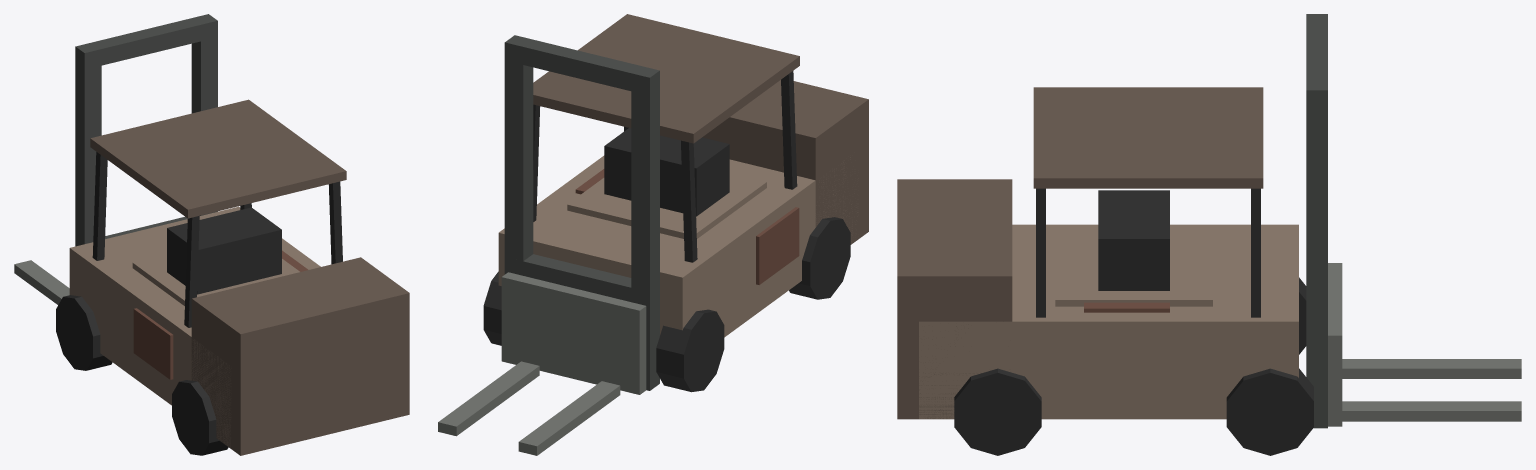
Rendered from ancient_forklift.obj.
3 views of the same model, side by side, from view 1: azimuth 30°, elevation 25°; view 2: azimuth 150°, elevation 25°; view 3: azimuth 270°, elevation 25° (orthographic). The views are drawn at different scales.
Visible parts, largest first — view 1: ancient_forklift; view 2: ancient_forklift; view 3: ancient_forklift.
Boxes of the visible parts, x1,y1,x2,y2 form: ancient_forklift: (14,14,409,455); ancient_forklift: (438,14,868,455); ancient_forklift: (897,14,1521,455).
Bounding box in the file's own units: 1.74 × 2.7 × 4.35.
